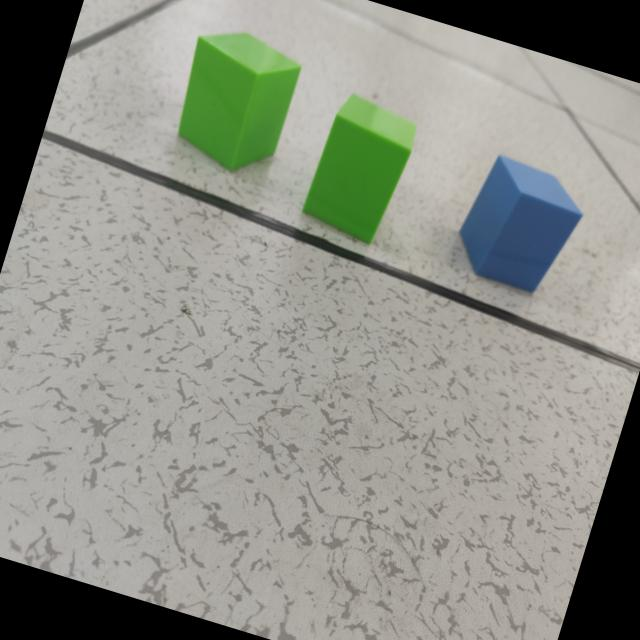blue: (457, 155, 582, 295)
green: (177, 33, 299, 172), (302, 95, 415, 243)
